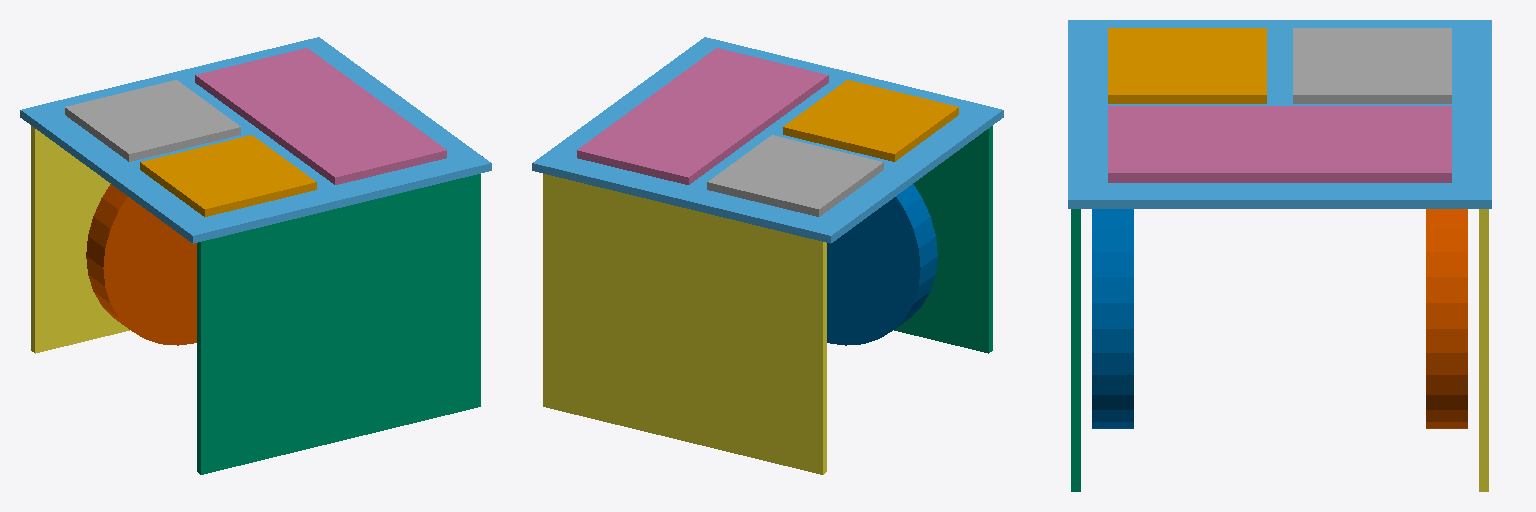
The robot description file, URDF, robot "generic_vss_robot":
<?xml version="1.0" encoding="utf-8"?>
<!-- This URDF was automatically created by SolidWorks to URDF Exporter! Originally created by [author] ([email redacted])
     Commit Version: 1.5.1-0-g916b5db  Build Version: 1.5.7152.31018
     For more information, please see http://wiki.ros.org/sw_urdf_exporter -->
<robot name="generic_vss_robot">
  <link name="base_link">
    <inertial>
      <origin xyz="0 -6.93889390390723E-18 0.0300217633588078" rpy="0 0 0" />
      <mass value="0.113374359717356" />
      <inertia ixx="7.53748708949032E-05" ixy="1.00192251695485E-21" ixz="-2.05369079266837E-21" iyy="7.94977991899896E-05" iyz="4.67673387095597E-21" izz="8.66719183047349E-05" />
    </inertial>
    <visual>
      <origin xyz="0 0 0" rpy="0 0 0" />
      <geometry>
        <mesh filename="package://travesim/meshes/base_link.stl" />
      </geometry>
      <material name="base_link_color"/>
    </visual>
    <collision>
      <origin xyz="0 0 0" rpy="0 0 0" />
      <geometry>
        <mesh filename="package://travesim/meshes/base_link_col.stl" />
      </geometry>
    </collision>
  </link>
  <link name="chapeu_link">
    <inertial>
      <origin xyz="0 -1.3878E-17 0.061" rpy="0 0 0" />
      <mass value="0.012087" />
      <inertia ixx="6.2903E-06" ixy="2.3039E-22" ixz="-2.9084E-23" iyy="5.6698E-06" iyz="-3.7247E-24" izz="1.1952E-05" />
    </inertial>
    <visual>
      <origin xyz="0 0 0" rpy="0 0 0" />
      <geometry>
        <box size="80e-3 80e-3 2e-3"/>
      </geometry>
      <material name="chapeu_link_color"/>
    </visual>
  </link>
  <joint name="chapeu_joint" type="fixed">
    <origin xyz="0 0 61e-3" rpy="0 0 0" />
    <parent link="base_link" />
    <child link="chapeu_link" />
    <axis xyz="0 0 0" />
  </joint>
  <link name="parede_dir_link">
    <inertial>
      <origin xyz="6.9389E-18 -0.0385 0.03" rpy="0 0 0" />
      <mass value="0.00918" />
      <inertia ixx="2.7571E-06" ixy="-2.5312E-23" ixz="0" iyy="7.0571E-06" iyz="0" izz="4.3062E-06" />
    </inertial>
    <visual>
      <origin xyz="0 -38.5e-3 30e-3" rpy="0 0 0" />
      <geometry>
        <box size="75e-3 2e-3 60e-3"/>
      </geometry>
      <material name="parede_color"/>
    </visual>
  </link>
  <joint name="parede_dir_joint" type="fixed">
    <origin xyz="0 0 0" rpy="0 0 0" />
    <parent link="base_link" />
    <child link="parede_dir_link" />
    <axis xyz="0 0 0" />
  </joint>
  <link name="parede_esq_link">
    <inertial>
      <origin xyz="0 0.0385 0.03" rpy="0 0 0" />
      <mass value="0.00918" />
      <inertia ixx="2.7571E-06" ixy="-8.7658E-24" ixz="-2.1599E-22" iyy="7.0571E-06" iyz="3.112E-24" izz="4.3062E-06" />
    </inertial>
    <visual>
      <origin xyz="0 38.5e-3 30e-3" rpy="0 0 0" />
      <geometry>
        <box size="75e-3 2e-3 60e-3"/>
      </geometry>
      <material name="parede_color"/>
    </visual>
  </link>
  <joint name="parede_esq_joint" type="fixed">
    <origin xyz="0 0 0" rpy="0 0 0" />
    <parent link="base_link" />
    <child link="parede_esq_link" />
    <axis xyz="0 0 0" />
  </joint>
  <link name="roda_dir_link">
    <inertial>
      <origin xyz="0 0.004 3.4694E-18" rpy="0 0 0" />
      <mass value="0.018064" />
      <inertia ixx="2.9189E-06" ixy="-3.4908E-39" ixz="2.1559E-38" iyy="5.645E-06" iyz="4.9934E-39" izz="2.9189E-06" />
    </inertial>
    <visual>
      <origin xyz="0 4e-3 0" rpy="1.5707963 0 0" />
      <geometry>
        <cylinder radius="25e-3" length="8e-3"/>
      </geometry>
      <material name="roda_color"/>
    </visual>
    <collision>
      <origin xyz="0 4e-3 0" rpy="1.5707963 0 0" />
      <geometry>
        <cylinder radius="25e-3" length="8e-3"/>
      </geometry>
    </collision>
  </link>
  <joint name="roda_dir_joint" type="continuous">
    <origin xyz="0 -0.0355 0.023" rpy="0 0 0" />
    <parent link="base_link" />
    <child link="roda_dir_link" />
    <axis xyz="0 1 0" />
    <limit effort="73e-3" velocity="68" />
    <dynamics damping="0.0023" friction="0.01" />
  </joint>
  <link name="roda_esq_link">
    <inertial>
      <origin xyz="0 -0.004 0" rpy="0 0 0" />
      <mass value="0.018064" />
      <inertia ixx="2.9189E-06" ixy="-3.4908E-39" ixz="2.1559E-38" iyy="5.645E-06" iyz="-1.0274E-38" izz="2.9189E-06" />
    </inertial>
    <visual>
      <origin xyz="0 -4e-3 0" rpy="1.5707963 0 0" />
      <geometry>
        <cylinder radius="25e-3" length="8e-3"/>
      </geometry>
      <material name="roda_color"/>
    </visual>
    <collision>
      <origin xyz="0 -4e-3 0" rpy="1.5707963 0 0" />
      <geometry>
        <cylinder radius="25e-3" length="8e-3"/>
      </geometry>
    </collision>
  </link>
  <joint name="roda_esq_joint" type="continuous">
    <origin xyz="0 0.0355 0.023" rpy="0 0 0" />
    <parent link="base_link" />
    <child link="roda_esq_link" />
    <axis xyz="0 1 0" />
    <limit effort="73e-3" velocity="68" />
    <dynamics damping="0.0023" friction="0.01" />
  </joint>

  <link name="team_blob_link">
    <inertial>
      <origin xyz="0 0 0" rpy="0 0 0" />
      <mass value="0.01" />
      <inertia ixx="6E-06" ixy="0" ixz="0" iyy="6E-06" iyz="0" izz="1E-05" />
    </inertial>
    <visual>
      <origin xyz="0 0 0" rpy="0 0 0" />
      <geometry>
        <box size="30e-3 65e-3 2e-3"/>
      </geometry>
      <material name="team_blob_color"/>
    </visual>
  </link>
  <joint name="team_blob_joint" type="fixed">
    <origin xyz="17.5e-3 0 2e-3" rpy="0 0 0" />
    <parent link="chapeu_link" />
    <child link="team_blob_link" />
    <axis xyz="0 0 0" />
  </joint>

  <link name="robot_blob_0_link">
    <inertial>
      <origin xyz="0 0 0" rpy="0 0 0" />
      <mass value="0.01" />
      <inertia ixx="6E-06" ixy="0" ixz="0" iyy="6E-06" iyz="0" izz="1E-05" />
    </inertial>
    <visual>
      <origin xyz="0 0 0" rpy="0 0 0" />
      <geometry>
        <box size="30e-3 30e-3 2e-3"/>
      </geometry>
      <material name="robot_blob_0_color"/>
    </visual>
  </link>
  <joint name="robot_blob_0_joint" type="fixed">
    <origin xyz="-17.5e-3 17.5e-3 2e-3" rpy="0 0 0" />
    <parent link="chapeu_link" />
    <child link="robot_blob_0_link" />
    <axis xyz="0 0 0" />
  </joint>

  <link name="robot_blob_1_link">
    <inertial>
      <origin xyz="0 0 0" rpy="0 0 0" />
      <mass value="0.01" />
      <inertia ixx="6E-06" ixy="0" ixz="0" iyy="6E-06" iyz="0" izz="1E-05" />
    </inertial>
    <visual>
      <origin xyz="0 0 0" rpy="0 0 0" />
      <geometry>
        <box size="30e-3 30e-3 2e-3"/>
      </geometry>
      <material name="robot_blob_1_color"/>
    </visual>
  </link>
  <joint name="robot_blob_1_joint" type="fixed">
    <origin xyz="-17.5e-3 -17.5e-3 2e-3" rpy="0 0 0" />
    <parent link="chapeu_link" />
    <child link="robot_blob_1_link" />
    <axis xyz="0 0 0" />
  </joint>
</robot>

--- Render facts (derived) ---
3 views of the same robot in one strip: view 1: azimuth 30°, elevation 25°; view 2: azimuth 150°, elevation 25°; view 3: azimuth 270°, elevation 25° (orthographic).
Model generic_vss_robot with 9 links and 8 joints (2 continuous, 6 fixed), rooted at base_link, posed every joint at zero.
Visible links, largest first — view 1: parede_dir_link, chapeu_link, team_blob_link, parede_esq_link, roda_esq_link, robot_blob_1_link, robot_blob_0_link; view 2: parede_esq_link, chapeu_link, team_blob_link, parede_dir_link, roda_dir_link, robot_blob_0_link, robot_blob_1_link; view 3: chapeu_link, team_blob_link, robot_blob_0_link, robot_blob_1_link, roda_dir_link, roda_esq_link, parede_dir_link, parede_esq_link.
Link boxes in pixels (x1,y1,x2,y2): parede_dir_link: (197, 174, 480, 474); chapeu_link: (20, 37, 491, 243); team_blob_link: (195, 48, 446, 184); parede_esq_link: (31, 126, 129, 353); roda_esq_link: (86, 184, 196, 345); robot_blob_1_link: (140, 135, 316, 216); robot_blob_0_link: (65, 80, 240, 161); parede_esq_link: (543, 174, 826, 474); chapeu_link: (532, 37, 1003, 243); team_blob_link: (577, 48, 828, 184); parede_dir_link: (894, 126, 992, 353); roda_dir_link: (827, 184, 937, 345); robot_blob_0_link: (707, 135, 883, 216); robot_blob_1_link: (783, 80, 958, 161); chapeu_link: (1068, 20, 1491, 208); team_blob_link: (1108, 106, 1451, 182); robot_blob_0_link: (1293, 28, 1451, 103); robot_blob_1_link: (1108, 28, 1266, 103); roda_dir_link: (1092, 209, 1133, 428); roda_esq_link: (1426, 209, 1467, 428); parede_dir_link: (1071, 209, 1080, 491); parede_esq_link: (1479, 209, 1488, 491).
Bounding box of the posed robot: 0.08 × 0.08 × 0.066 m (x, y, z).
0 mesh visuals loaded from 1 distinct referenced files (none loaded); not drawn: 1 (reference not matched to a file when rendering).